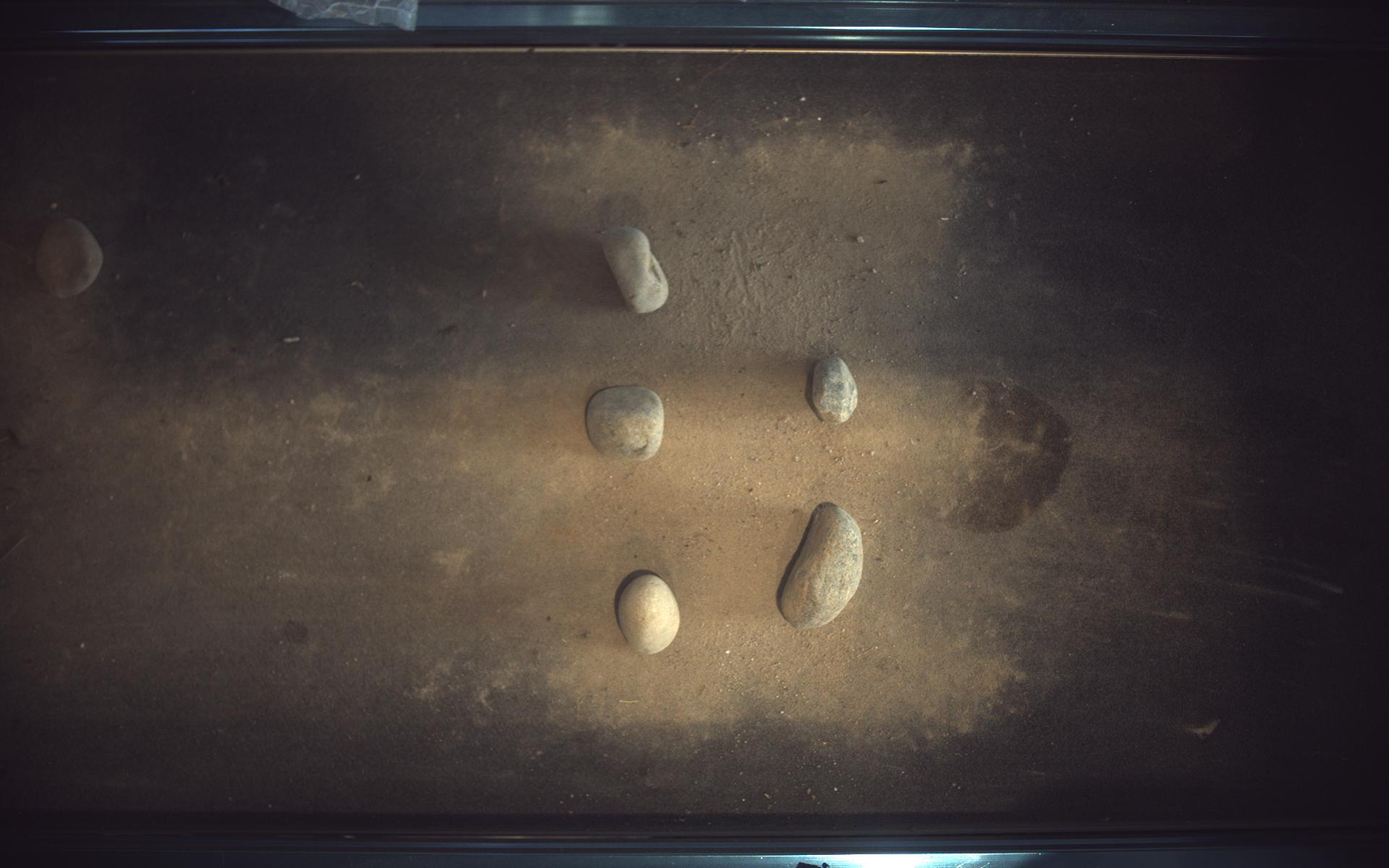stone: (781, 503, 865, 630), (601, 226, 670, 313), (587, 386, 665, 461), (35, 218, 102, 298), (618, 574, 681, 656), (812, 356, 859, 424)
